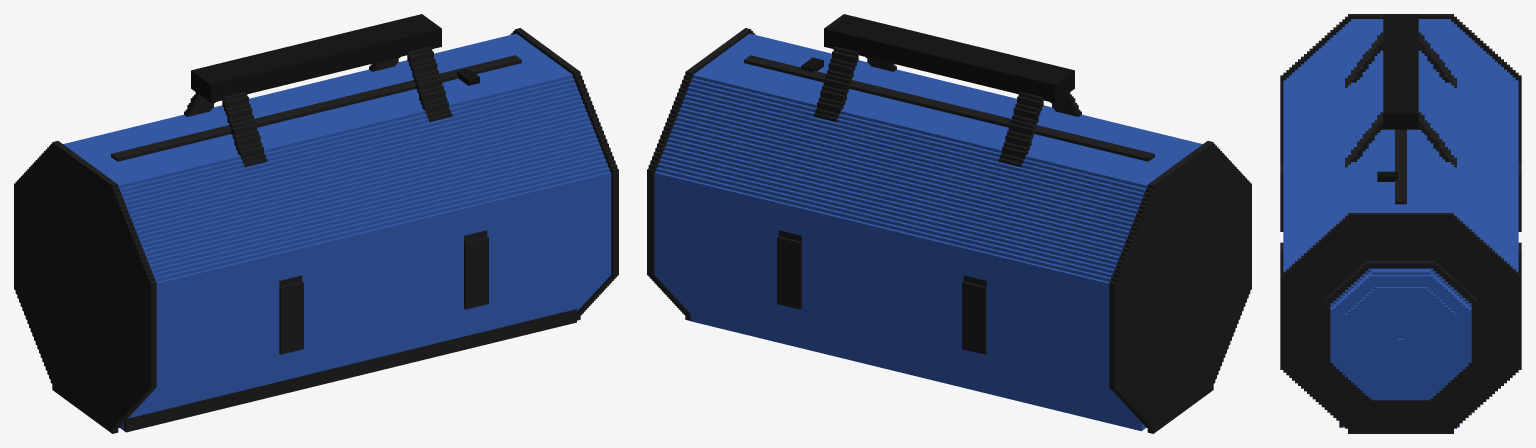
The model's file is duffelbag_gym_xl.glb.
The picture shows the model from 3 angles, left to right: view 1: azimuth 30°, elevation 25°; view 2: azimuth 150°, elevation 25°; view 3: azimuth 270°, elevation 25°; orthographic projection. The views are drawn at different scales.
Visible parts, largest first — view 1: duffelbag_gym_xl:compound; view 2: duffelbag_gym_xl:compound; view 3: duffelbag_gym_xl:compound.
Boxes of the visible parts, x1,y1,x2,y2 form: duffelbag_gym_xl:compound: (14,14,618,433); duffelbag_gym_xl:compound: (647,14,1251,433); duffelbag_gym_xl:compound: (1280,14,1521,433).
Bounding box in the file's own units: 0.68 × 0.404 × 0.328.
